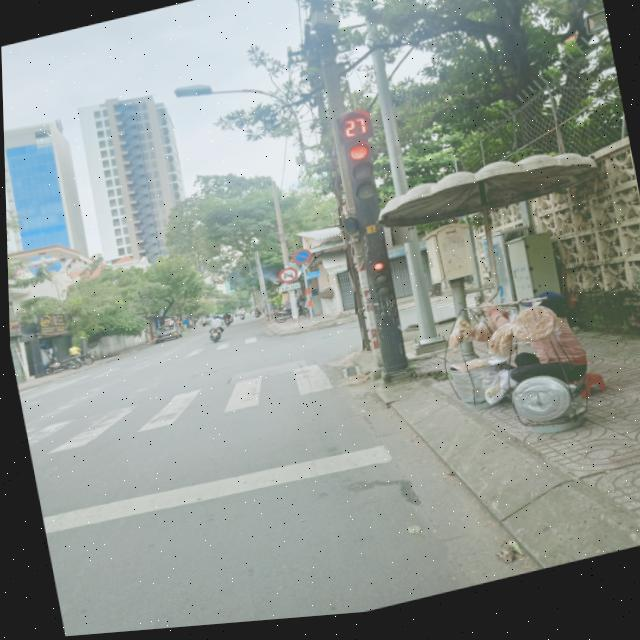Red: (342, 142, 382, 218), (364, 262, 394, 309)
